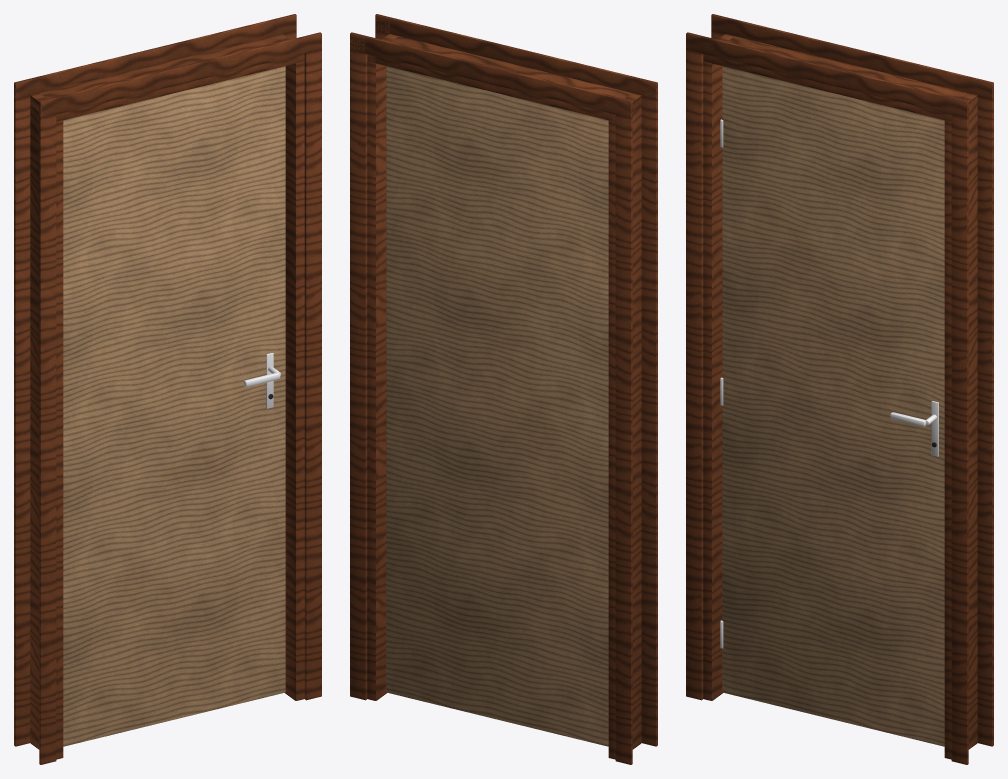
File: ESQ-PMD-002.glb
The picture shows the model from 3 angles, left to right: view 1: azimuth 30°, elevation 25°; view 2: azimuth 150°, elevation 25°; view 3: azimuth 330°, elevation 25°; orthographic projection.
Visible parts, largest first — view 1: ESQ-PMD-002_folha, ESQ-PMD-002_batente_d, ESQ-PMD-002_guarnicao_e-1, ESQ-PMD-002_guarnicao_d-1, ESQ-PMD-002_batente_e, ESQ-PMD-002_guarnicao_e1, ESQ-PMD-002_guarnicao_c-1, ESQ-PMD-002_guarnicao_c1, ESQ-PMD-002_batente_c; view 2: ESQ-PMD-002_folha, ESQ-PMD-002_batente_d, ESQ-PMD-002_guarnicao_d1, ESQ-PMD-002_guarnicao_e1, ESQ-PMD-002_batente_e, ESQ-PMD-002_guarnicao_e-1, ESQ-PMD-002_guarnicao_c1, ESQ-PMD-002_guarnicao_c-1, ESQ-PMD-002_batente_c; view 3: ESQ-PMD-002_folha, ESQ-PMD-002_batente_e, ESQ-PMD-002_guarnicao_e-1, ESQ-PMD-002_guarnicao_d-1, ESQ-PMD-002_batente_d, ESQ-PMD-002_guarnicao_d1, ESQ-PMD-002_guarnicao_c-1, ESQ-PMD-002_guarnicao_c1, ESQ-PMD-002_batente_c.
Boxes of the visible parts, left/top/right/bottom form: ESQ-PMD-002_folha: left=63, top=66, right=285, bottom=746; ESQ-PMD-002_batente_d: left=273, top=34, right=304, bottom=700; ESQ-PMD-002_guarnicao_e-1: left=39, top=98, right=56, bottom=764; ESQ-PMD-002_guarnicao_d-1: left=304, top=33, right=321, bottom=700; ESQ-PMD-002_batente_e: left=30, top=93, right=63, bottom=759; ESQ-PMD-002_guarnicao_e1: left=14, top=79, right=30, bottom=746; ESQ-PMD-002_guarnicao_c-1: left=39, top=32, right=321, bottom=117; ESQ-PMD-002_guarnicao_c1: left=14, top=14, right=296, bottom=99; ESQ-PMD-002_batente_c: left=30, top=36, right=304, bottom=121; ESQ-PMD-002_folha: left=386, top=66, right=608, bottom=746; ESQ-PMD-002_batente_d: left=367, top=34, right=398, bottom=700; ESQ-PMD-002_guarnicao_d1: left=350, top=33, right=367, bottom=700; ESQ-PMD-002_guarnicao_e1: left=615, top=98, right=632, bottom=764; ESQ-PMD-002_batente_e: left=608, top=93, right=641, bottom=759; ESQ-PMD-002_guarnicao_e-1: left=641, top=79, right=657, bottom=746; ESQ-PMD-002_guarnicao_c1: left=350, top=32, right=632, bottom=117; ESQ-PMD-002_guarnicao_c-1: left=375, top=14, right=657, bottom=99; ESQ-PMD-002_batente_c: left=367, top=36, right=641, bottom=121; ESQ-PMD-002_folha: left=722, top=66, right=944, bottom=746; ESQ-PMD-002_batente_e: left=703, top=34, right=734, bottom=700; ESQ-PMD-002_guarnicao_e-1: left=686, top=32, right=703, bottom=700; ESQ-PMD-002_guarnicao_d-1: left=951, top=98, right=968, bottom=764; ESQ-PMD-002_batente_d: left=944, top=93, right=977, bottom=759; ESQ-PMD-002_guarnicao_d1: left=977, top=79, right=993, bottom=746; ESQ-PMD-002_guarnicao_c-1: left=686, top=32, right=968, bottom=117; ESQ-PMD-002_guarnicao_c1: left=711, top=14, right=993, bottom=99; ESQ-PMD-002_batente_c: left=703, top=36, right=967, bottom=121.
Bounding box in the file's own units: 0.97 × 2.19 × 0.1655.
4 materials, 2 textured.
